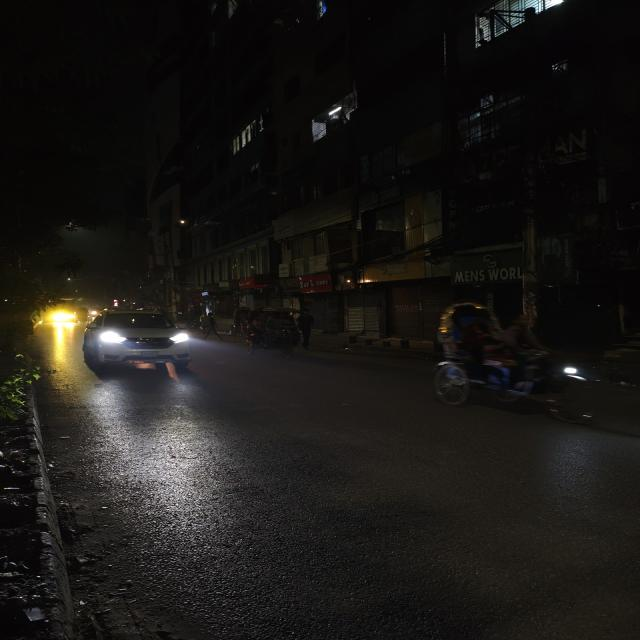car: (76, 308, 196, 376)
pedestrian: (201, 314, 224, 342)
rickshaw: (416, 295, 606, 429), (240, 304, 303, 360)
